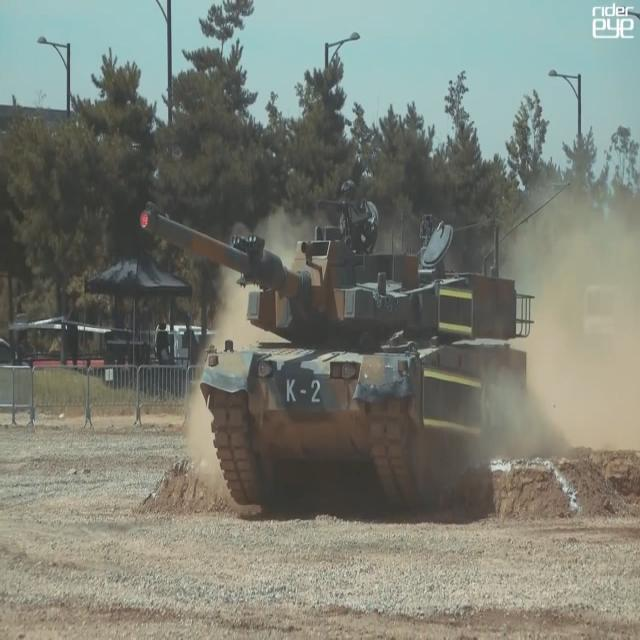korea tank: (138, 176, 537, 509)
